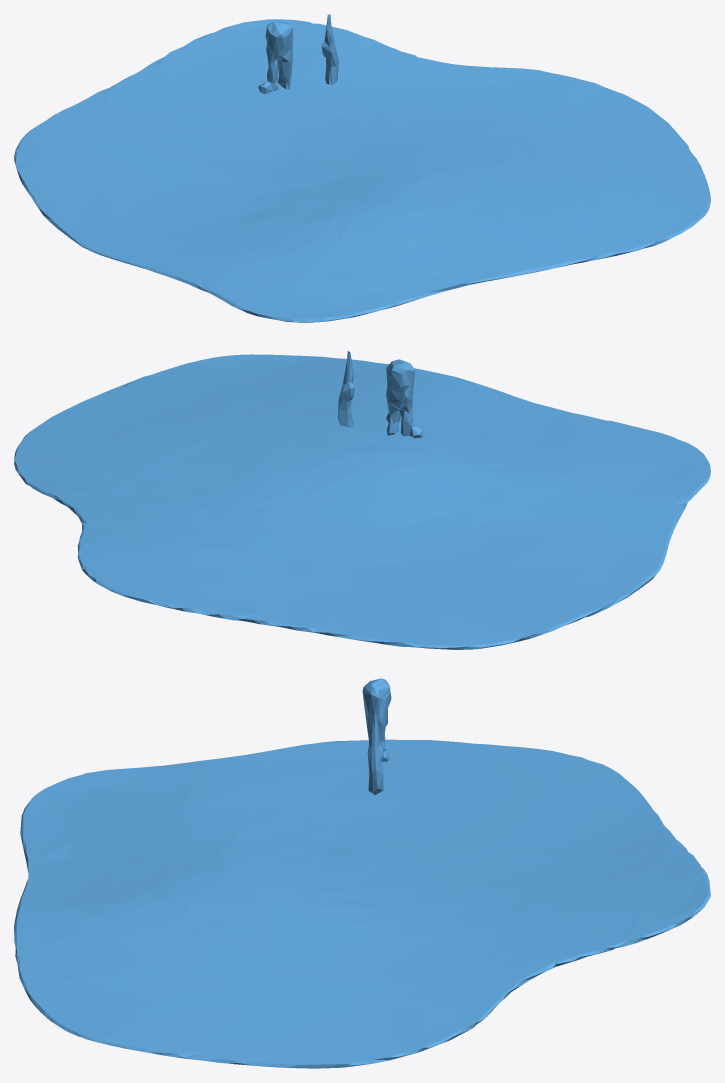
The model's file is blue-sloper.glb.
3 views of the same model, one above another, from view 1: azimuth 30°, elevation 25°; view 2: azimuth 150°, elevation 25°; view 3: azimuth 270°, elevation 25° (orthographic). The views are drawn at different scales.
Visible parts, largest first — view 1: decimated.ply; view 2: decimated.ply; view 3: decimated.ply.
Part boxes in pixels (x1=…): decimated.ply: x1=14, y1=14, x2=710, y2=322; decimated.ply: x1=14, y1=351, x2=710, y2=649; decimated.ply: x1=14, y1=678, x2=710, y2=1068.
Size of the model in its own units: 1.99 by 0.5549 by 1.84.
